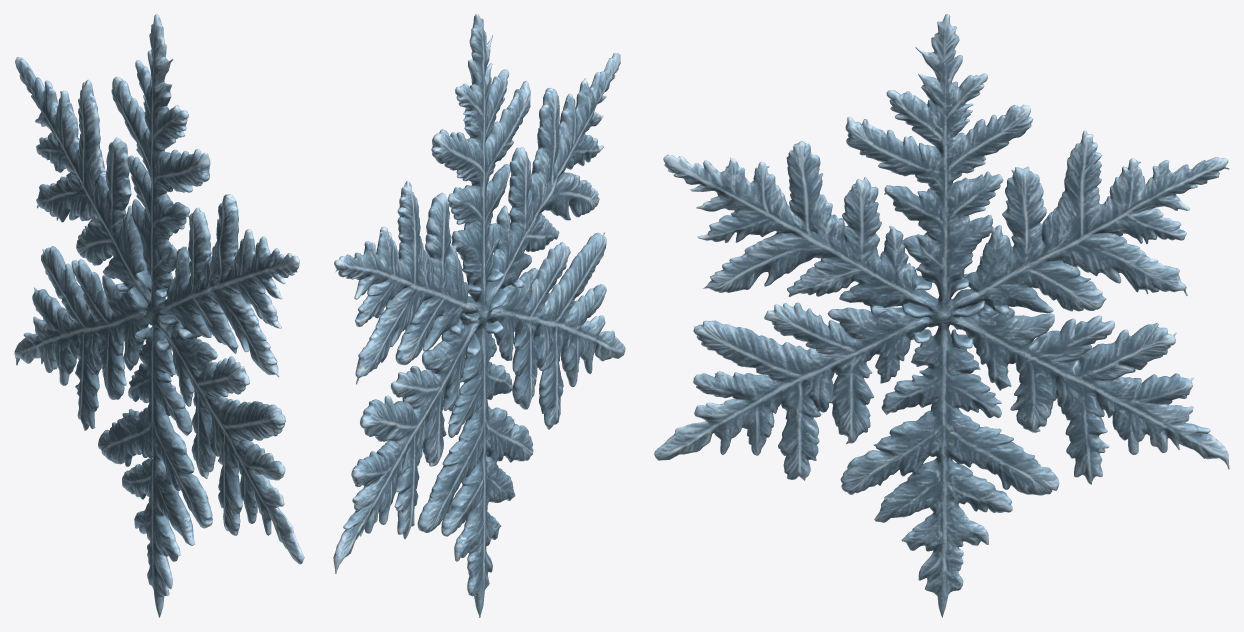
Rendered from snowflake-model.glb.
3 renders of one model, left to right at view 1: azimuth 30°, elevation 25°; view 2: azimuth 150°, elevation 25°; view 3: azimuth 270°, elevation 25°, orthographic.
Parts seen in each view (by area): view 1: tripo_node_42d308d7-e9a6-4ace-ae17-c5d7aed13e8e; view 2: tripo_node_42d308d7-e9a6-4ace-ae17-c5d7aed13e8e; view 3: tripo_node_42d308d7-e9a6-4ace-ae17-c5d7aed13e8e.
Part boxes in pixels (box(x1,y1,x2,y2)): tripo_node_42d308d7-e9a6-4ace-ae17-c5d7aed13e8e: box(14, 14, 304, 617); tripo_node_42d308d7-e9a6-4ace-ae17-c5d7aed13e8e: box(333, 14, 625, 617); tripo_node_42d308d7-e9a6-4ace-ae17-c5d7aed13e8e: box(654, 14, 1229, 617).
Size of the model in its own units: 0.0428 by 1 by 0.8635.
Materials: 1 (1 with a texture image).
